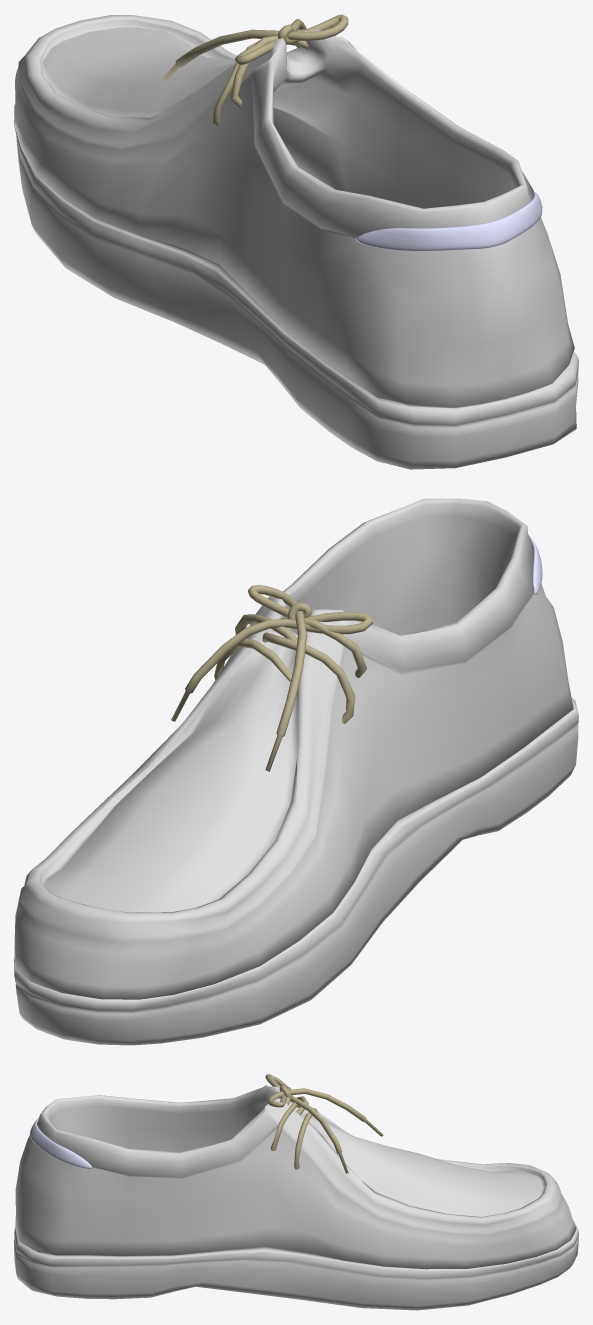
Rendered from purple.glb.
3 views of the same model, one above another, from view 1: azimuth 30°, elevation 25°; view 2: azimuth 150°, elevation 25°; view 3: azimuth 270°, elevation 25° (orthographic). The views are drawn at different scales.
Visible parts, largest first — view 1: sapato, sapato.001, BézierCurve; view 2: sapato, BézierCurve; view 3: sapato, BézierCurve, sapato.001.
Part boxes in pixels (x1,y1,x2,y2): sapato: [14, 15, 578, 469]; sapato.001: [356, 192, 542, 251]; BézierCurve: [162, 14, 356, 126]; sapato: [14, 498, 578, 1045]; BézierCurve: [171, 585, 372, 771]; sapato: [14, 1085, 578, 1310]; BézierCurve: [265, 1074, 383, 1173]; sapato.001: [29, 1118, 92, 1168].
Size of the model in its own units: 0.2547 by 0.2841 by 0.785.
Materials: 3 (1 with a texture image).
